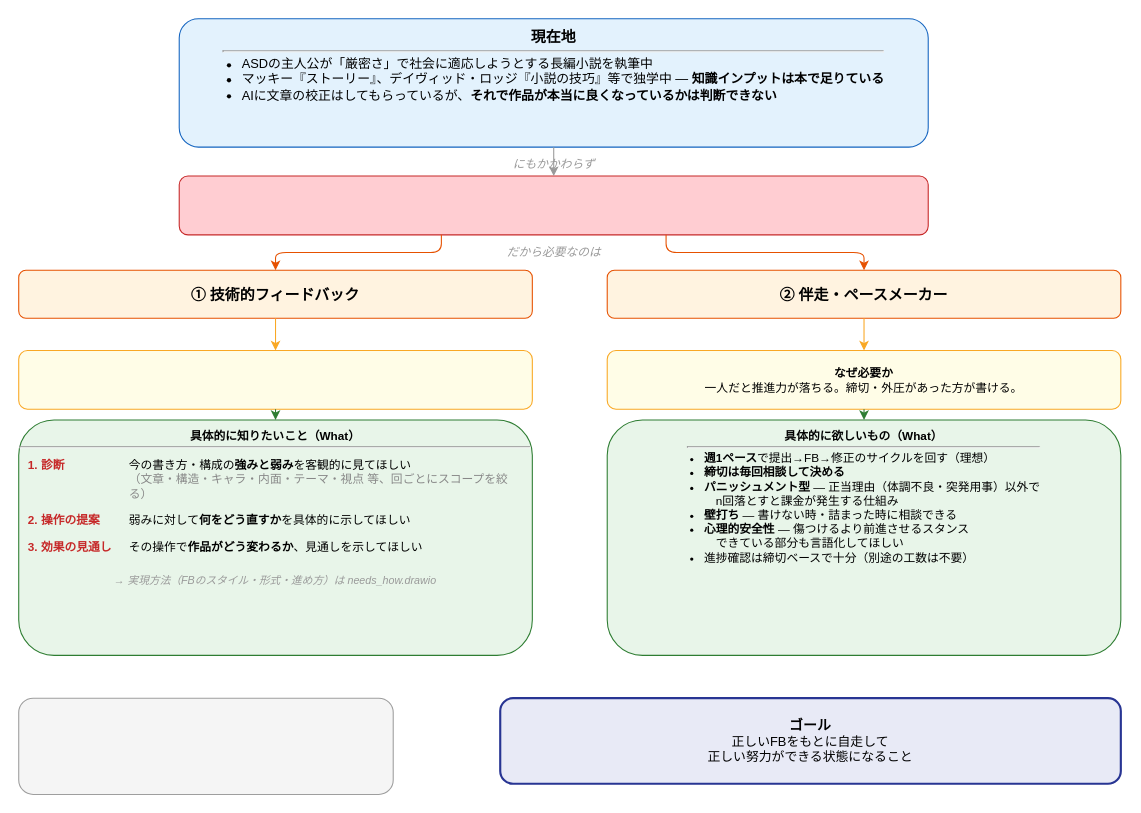
Image size: 1141x813. Some labels were removed from this diagram. The shapes that lost their labels are listed below. From the top down, each one's centre as x and y in pixels, then its label:
At [553,205]: "自分だけで書いていると、方向を間違えても気づく手段がない 観測のない推測だけで進んでいる状態 — 合っているのか間違っているのかすら分からない".
At [275,379]: "なぜ必要か 自分の弱点が自分では見えない。AIの校正だけでは作品が良くなっているか分からない。".
At [205,745]: "✕ 不要なもの 講義・知識インプット → 本で代替可能 汎用的な課題・お題 → Constrainを書くことが目的".
